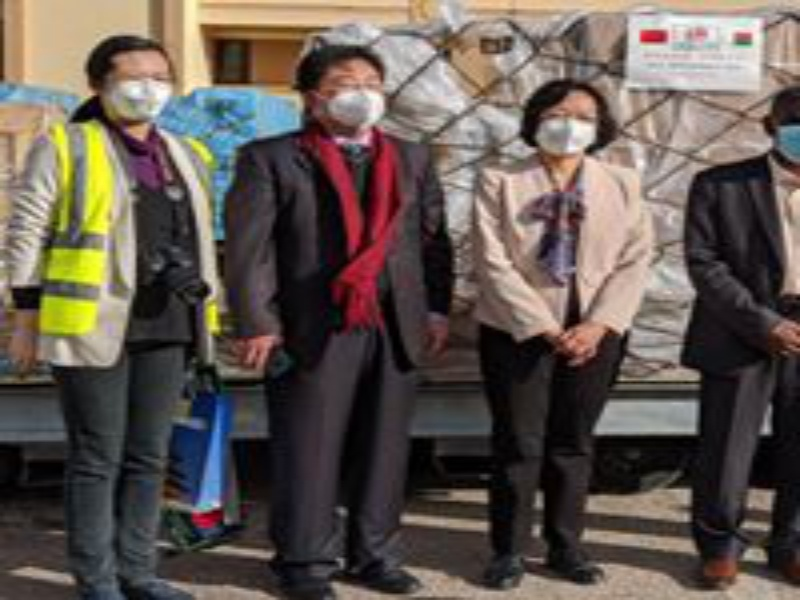ManaoArotava: (300, 46, 399, 144), (82, 40, 183, 132), (524, 74, 609, 168)
